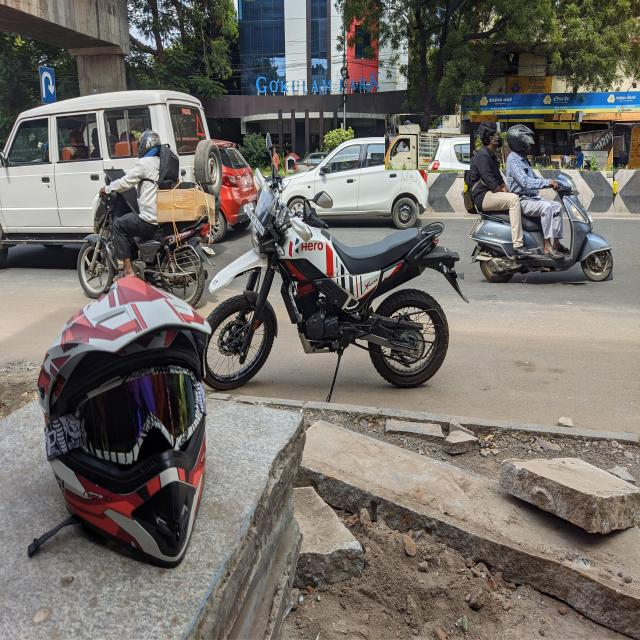car: (0, 90, 210, 260), (281, 137, 428, 228)
motorcycle: (205, 175, 462, 388), (78, 130, 215, 305), (465, 122, 613, 283)
truck: (385, 115, 470, 170)
